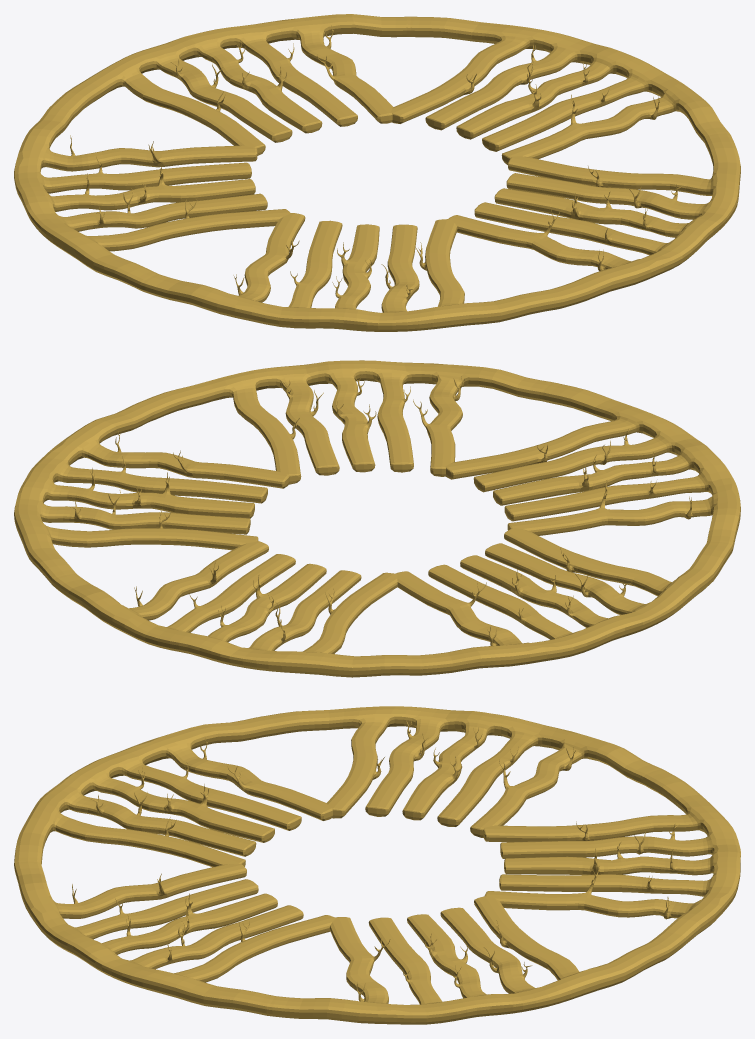
File: base_circle_vetve.fbx
3 views of the same model, one above another, from view 1: azimuth 30°, elevation 25°; view 2: azimuth 150°, elevation 25°; view 3: azimuth 270°, elevation 25° (orthographic).
Parts seen in each view (by area): view 1: frontal, cerebellum, occipital, parietal, temporal; view 2: temporal, occipital, frontal, parietal, cerebellum; view 3: parietal, cerebellum, temporal, occipital, frontal.
Part boxes in pixels (box(x1,y1,x2,y2)): frontal: box(14, 108, 290, 289); cerebellum: box(448, 133, 740, 309); occipital: box(391, 16, 729, 164); parietal: box(49, 14, 410, 155); temporal: box(137, 213, 563, 331); temporal: box(445, 382, 740, 551); occipital: box(14, 404, 289, 585); frontal: box(395, 528, 732, 675); parietal: box(51, 541, 422, 677); cerebellum: box(136, 360, 553, 484); parietal: box(483, 769, 740, 961); cerebellum: box(14, 861, 335, 1014); temporal: box(14, 717, 332, 867); occipital: box(261, 896, 669, 1024); frontal: box(259, 706, 662, 837).
Bounding box in the file's own units: 54.99 × 2.83 × 54.83.
